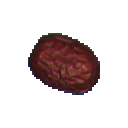gd: (9, 17, 121, 113)
